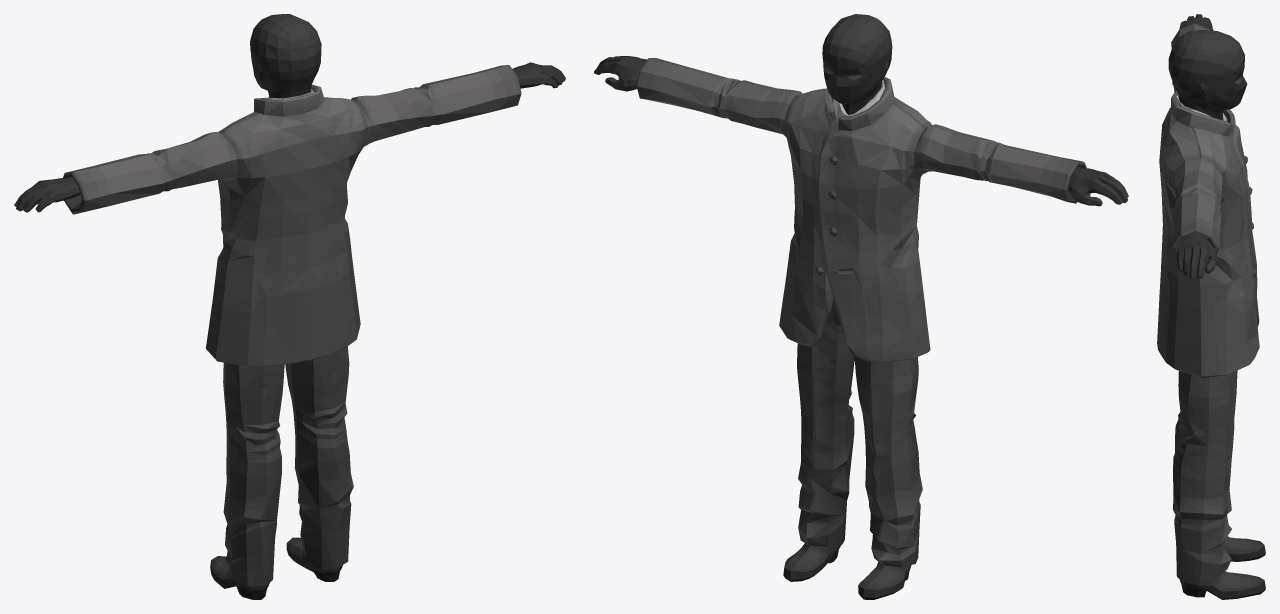
File: NPC_AP31BlueGeneric.glb
3 views of the same model, side by side, from view 1: azimuth 30°, elevation 25°; view 2: azimuth 150°, elevation 25°; view 3: azimuth 270°, elevation 25° (orthographic). The views are drawn at different scales.
Parts seen in each view (by area): view 1: NPC_AP31BlueGeneric; view 2: NPC_AP31BlueGeneric; view 3: NPC_AP31BlueGeneric.
Part boxes in pixels (<box>): NPC_AP31BlueGeneric: <box>14,14,565,599</box>; NPC_AP31BlueGeneric: <box>594,14,1128,599</box>; NPC_AP31BlueGeneric: <box>1157,14,1265,599</box>.
Bounding box in the file's own units: 13.89 × 13.72 × 2.5.
Materials: 1 (1 with a texture image).
